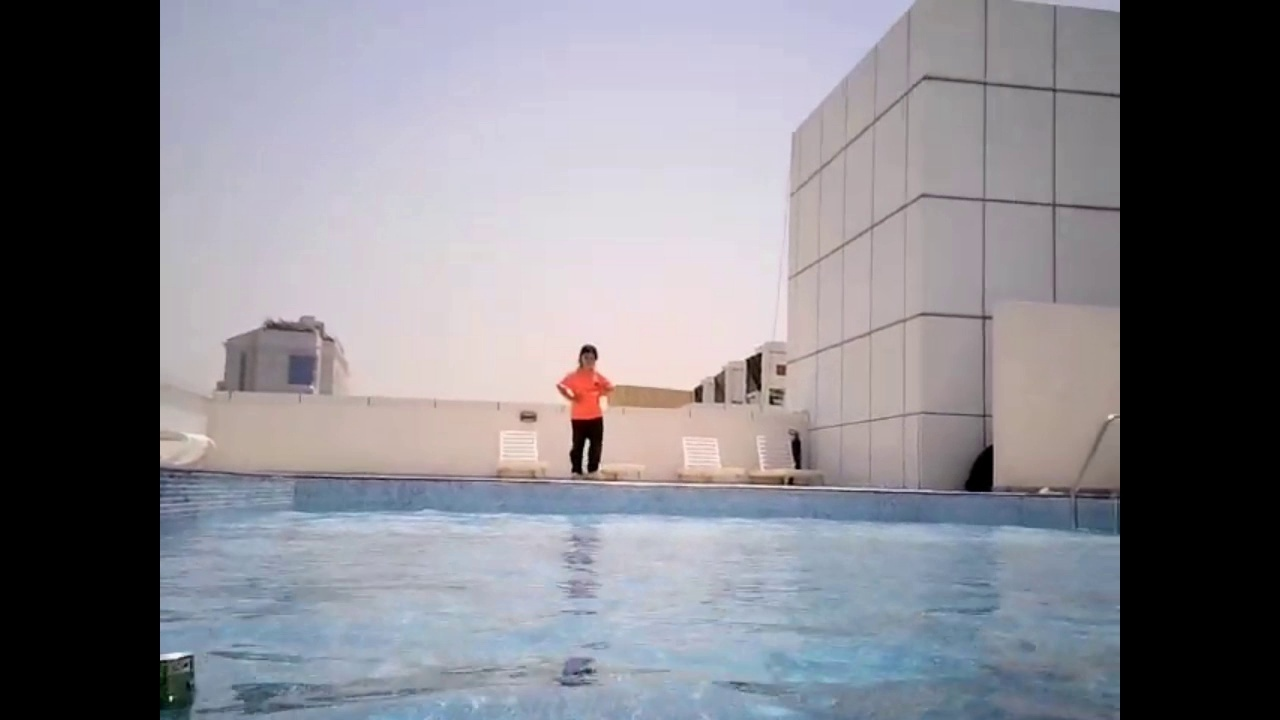debris: (161, 647, 201, 715)
